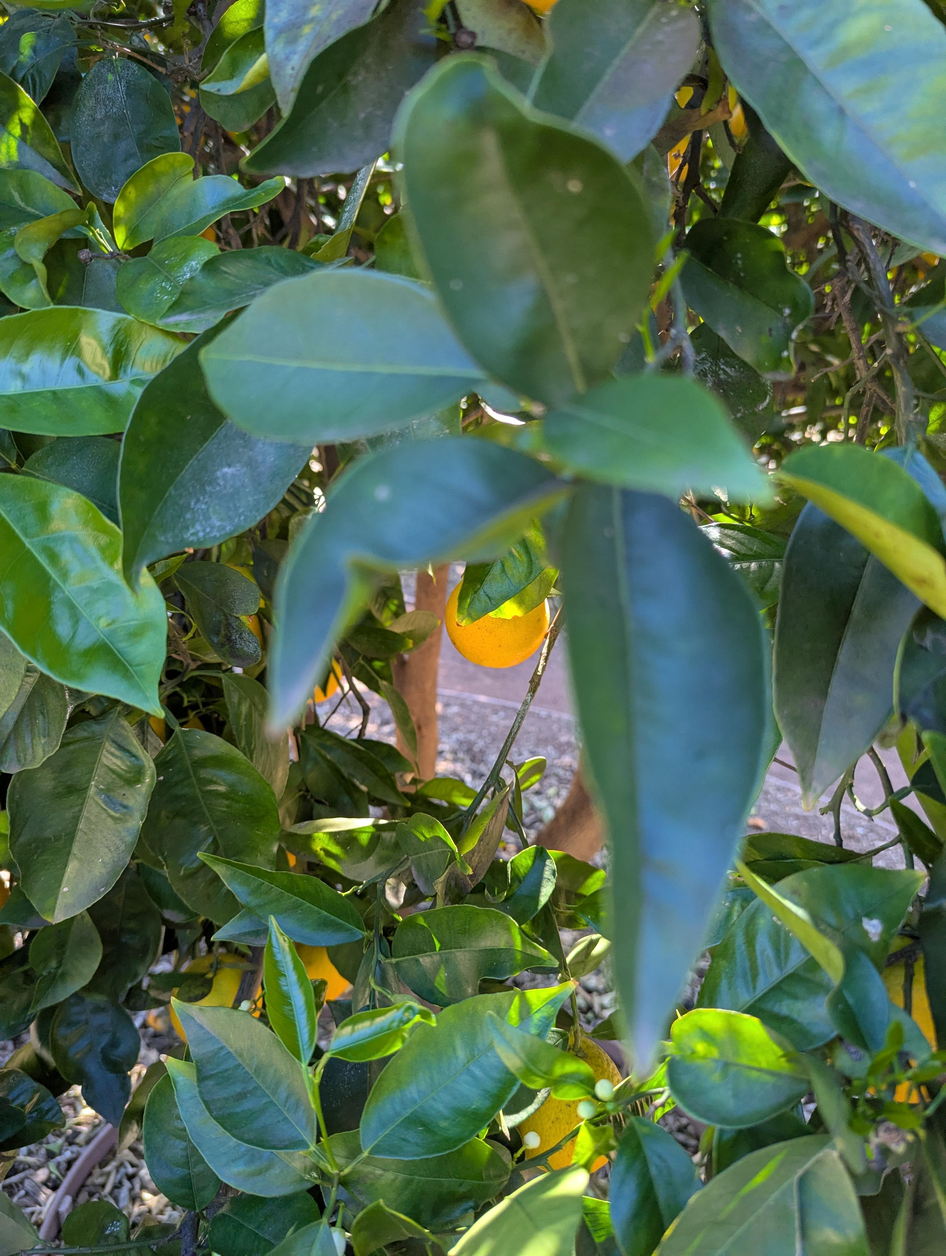orange: (819, 895, 946, 1104), (513, 1031, 628, 1180), (444, 564, 550, 668), (169, 953, 263, 1049), (225, 565, 282, 652), (133, 694, 205, 745), (292, 943, 350, 1005), (306, 653, 341, 704), (668, 132, 690, 182)
